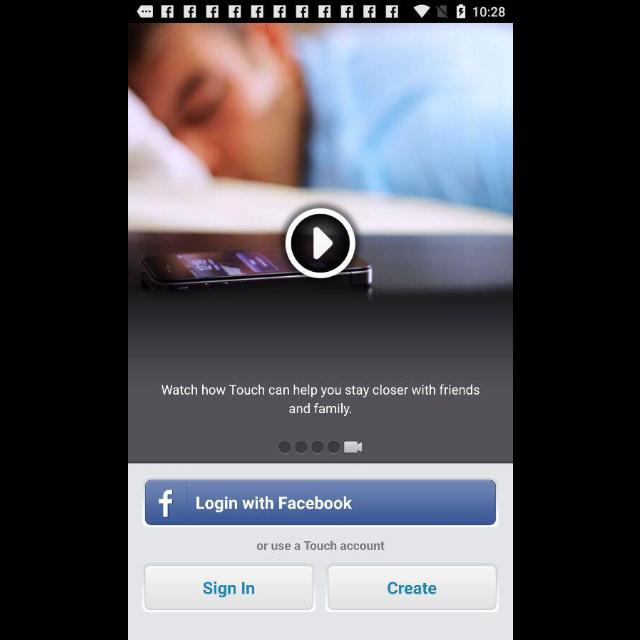icon: (284, 209, 356, 279)
image: (128, 24, 512, 464)
pageindicator: (278, 441, 362, 455)
text: (161, 384, 479, 416), (256, 540, 386, 550)
textbutton: (144, 480, 496, 526), (327, 566, 496, 610), (144, 566, 312, 610)
uppertaskbar: (128, 1, 512, 23)
